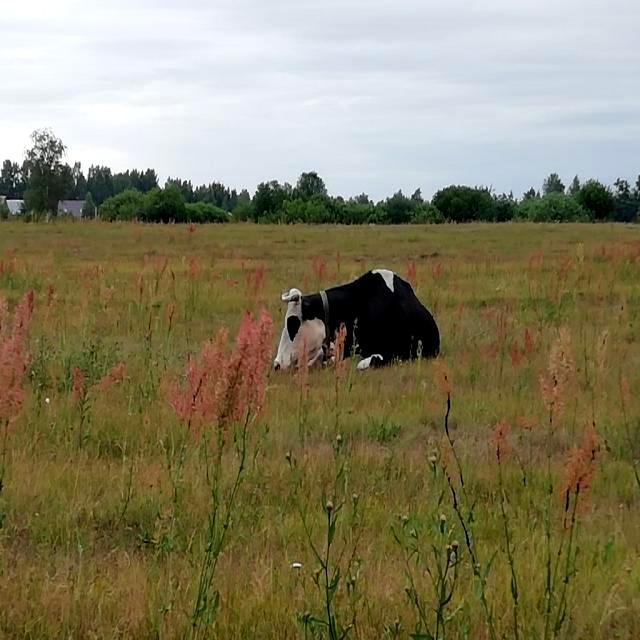COW: (274, 269, 440, 369)
